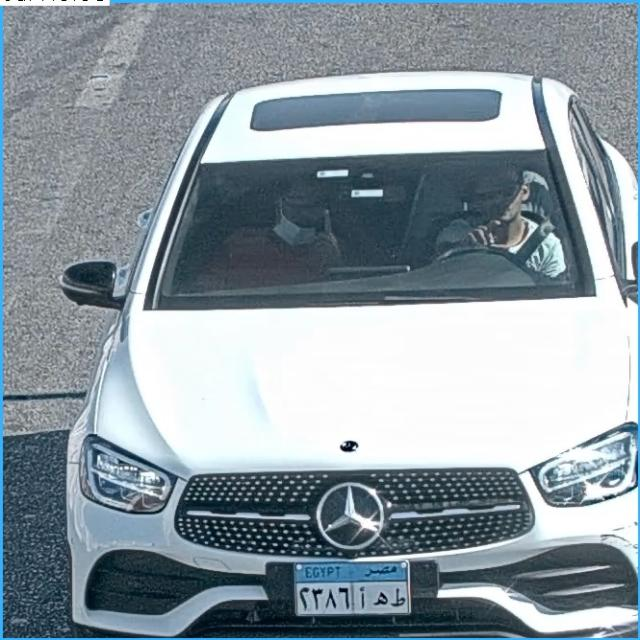windshield: (145, 157, 586, 295)
